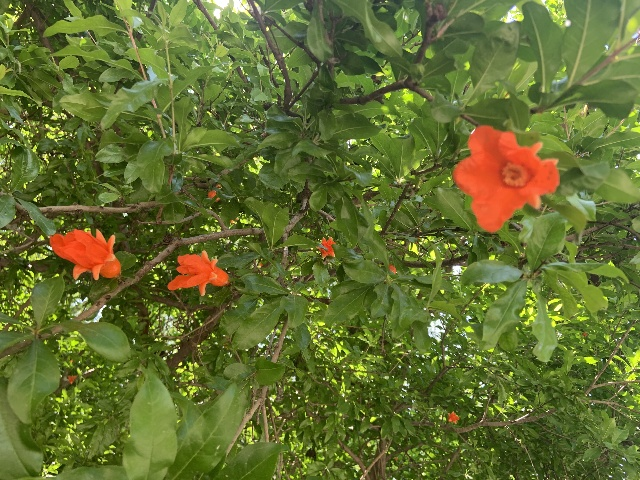bud: (207, 184, 221, 202), (387, 264, 396, 274)
flower: (453, 125, 560, 233), (49, 227, 120, 280), (167, 249, 229, 296), (318, 236, 336, 258), (447, 411, 459, 423), (67, 375, 77, 383)
